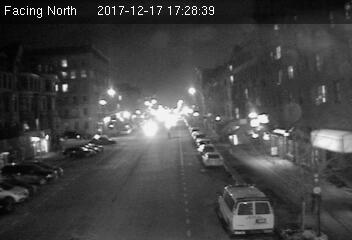car: (203, 153, 223, 166)
police: (214, 181, 278, 237)
